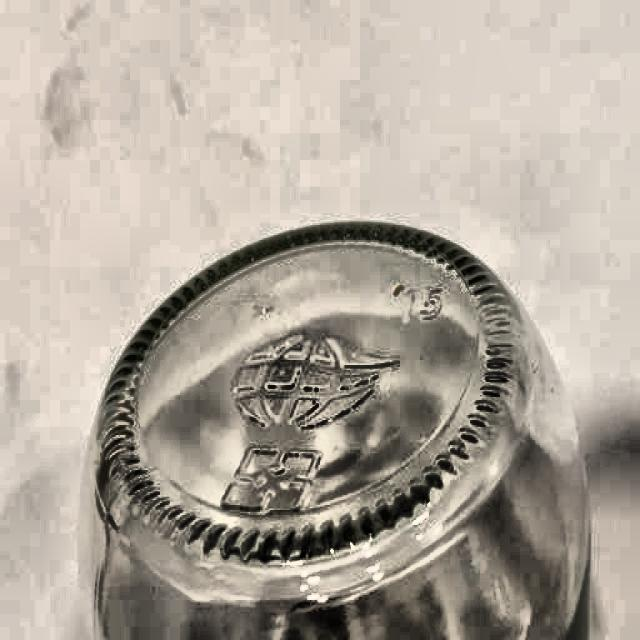glass: (84, 215, 598, 640)
